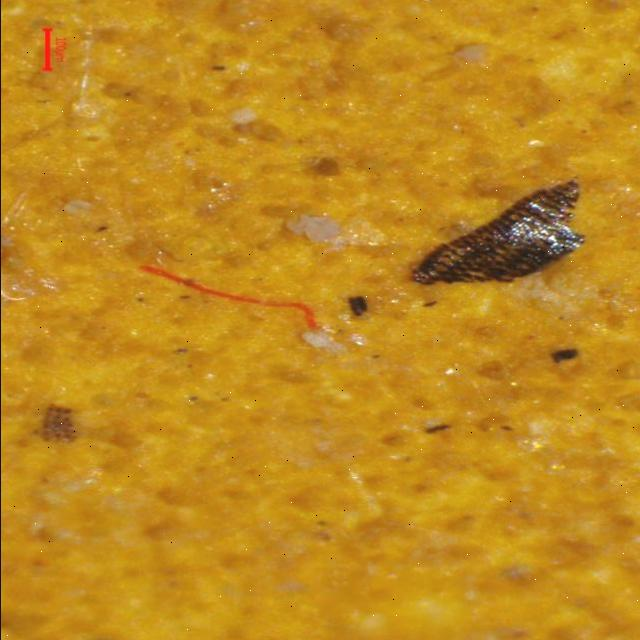Fibre: (130, 258, 332, 340)
Fragment: (407, 175, 581, 288)
